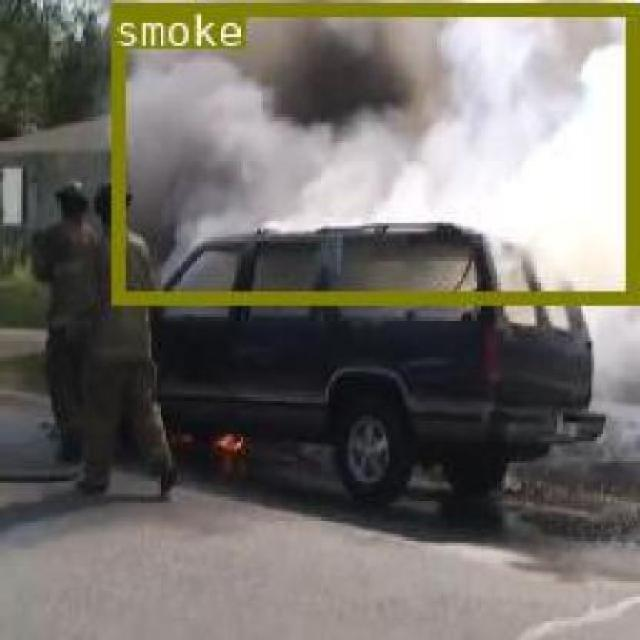Smoke: (113, 0, 631, 236)
